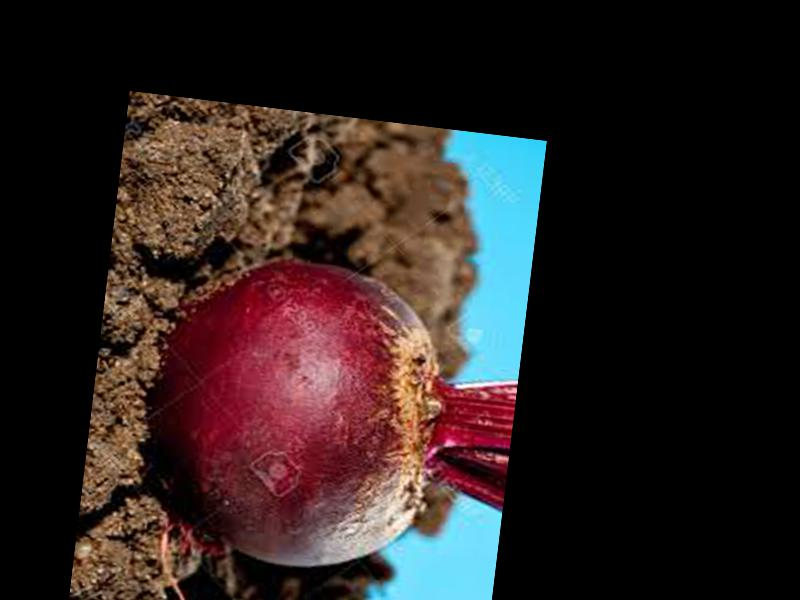Beet: (136, 246, 526, 591)
